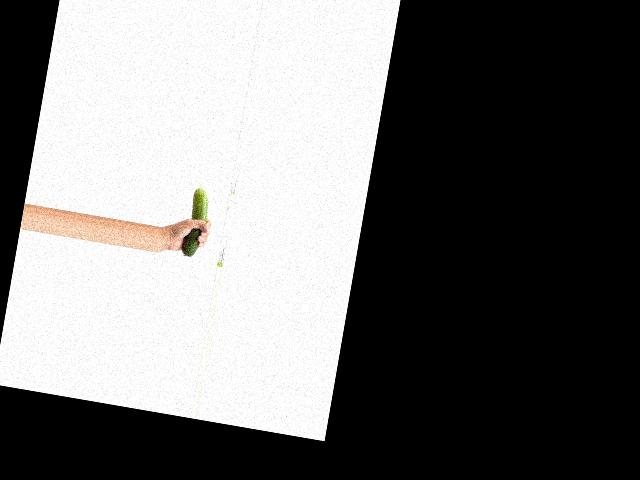cucumber: (181, 186, 212, 257)
